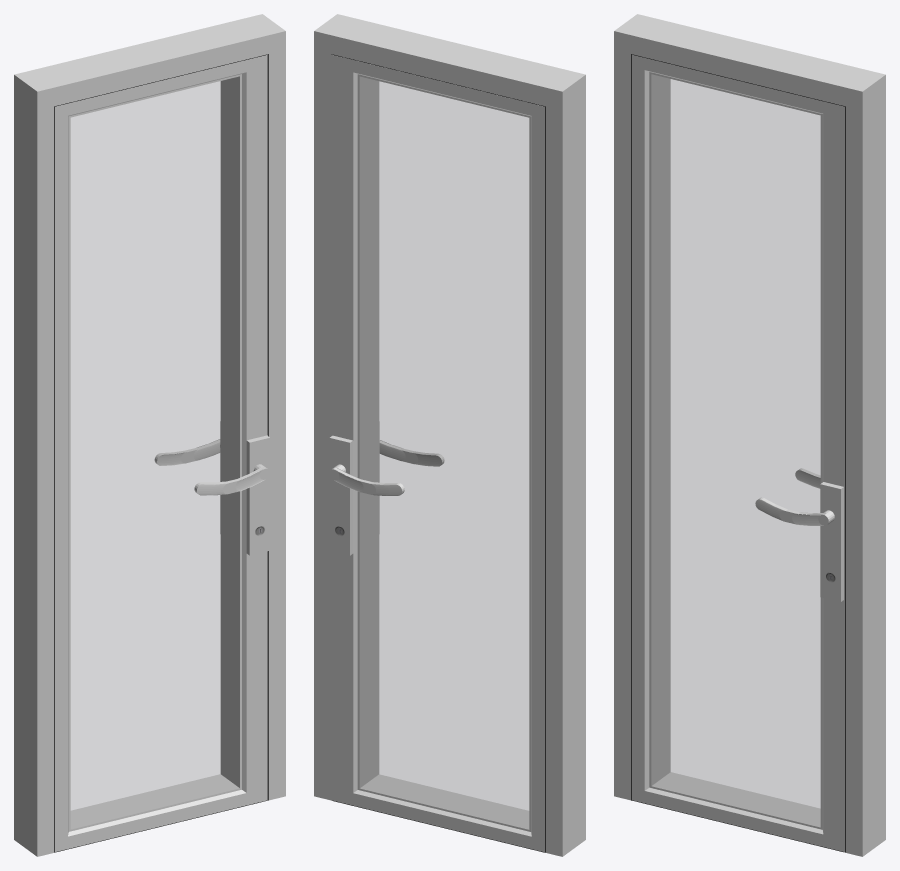
3 renders of one model, left to right at view 1: azimuth 30°, elevation 25°; view 2: azimuth 150°, elevation 25°; view 3: azimuth 330°, elevation 25°, orthographic.
Parts seen in each view (by area): view 1: Lo-ZUOMEN_01, Lo-BODY_01; view 2: Lo-ZUOMEN_01, Lo-BODY_01; view 3: Lo-ZUOMEN_01, Lo-BODY_01.
Boxes of the visible parts, <box> form: Lo-ZUOMEN_01: <box>55,54,270,852</box>; Lo-BODY_01: <box>14,14,285,856</box>; Lo-ZUOMEN_01: <box>329,54,545,852</box>; Lo-BODY_01: <box>314,14,585,856</box>; Lo-ZUOMEN_01: <box>631,54,844,852</box>; Lo-BODY_01: <box>614,14,885,856</box>.
Size of the model in its own units: 0.7136 by 2.1 by 0.2206.
3 materials, 3 textured.
